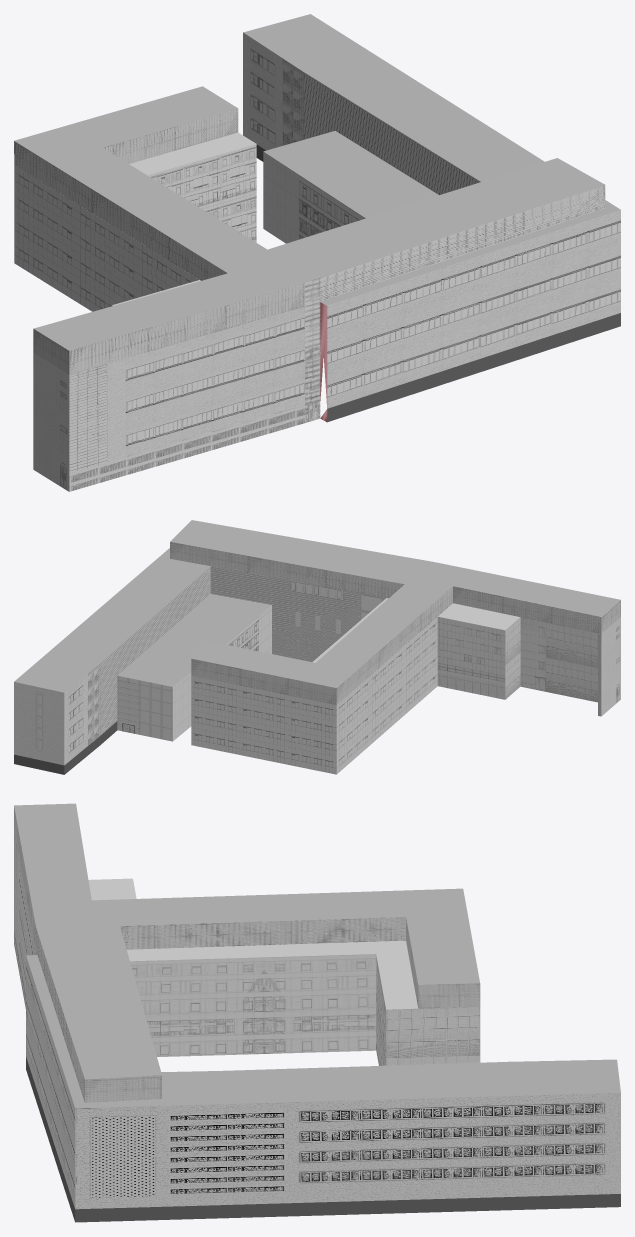
The model's file is Chemie.gltf.
3 views of the same model, one above another, from view 1: azimuth 30°, elevation 25°; view 2: azimuth 150°, elevation 25°; view 3: azimuth 270°, elevation 25° (orthographic). The views are drawn at different scales.
Visible parts, largest first — view 1: Chemie1.1; view 2: Chemie1.1; view 3: Chemie1.1.
Part boxes in pixels (x1=…): Chemie1.1: x1=14, y1=14, x2=620, y2=491; Chemie1.1: x1=14, y1=520, x2=620, y2=774; Chemie1.1: x1=14, y1=803, x2=620, y2=1222.
Size of the model in its own units: 119 by 27.29 by 108.
26 materials, 21 textured.
